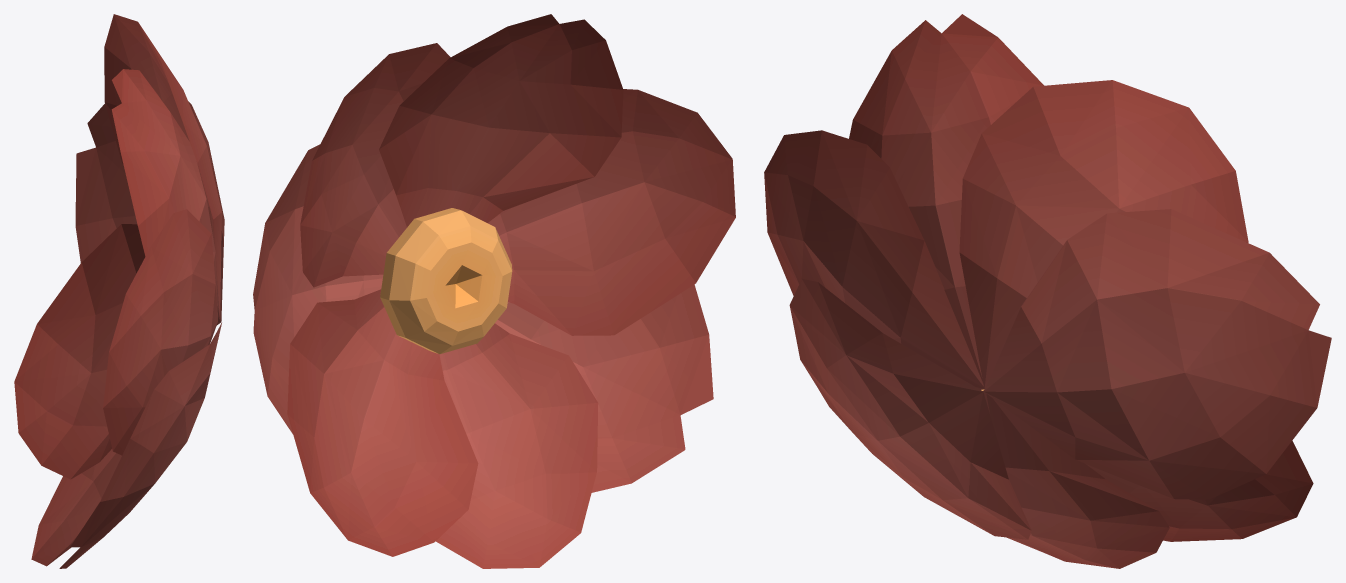
The model's file is CharSkyKid_Horn_FlowerPoppy_02.glb.
The picture shows the model from 3 angles, left to right: view 1: azimuth 30°, elevation 25°; view 2: azimuth 150°, elevation 25°; view 3: azimuth 270°, elevation 25°; orthographic projection. The views are drawn at different scales.
Parts seen in each view (by area): view 1: CharSkyKid_Horn_FlowerPoppy_02; view 2: CharSkyKid_Horn_FlowerPoppy_02; view 3: CharSkyKid_Horn_FlowerPoppy_02.
Part boxes in pixels (x1,y1,x2,y2): CharSkyKid_Horn_FlowerPoppy_02: [14, 14, 224, 568]; CharSkyKid_Horn_FlowerPoppy_02: [253, 14, 735, 568]; CharSkyKid_Horn_FlowerPoppy_02: [764, 14, 1331, 568].
Size of the model in its own units: 0.5936 by 1.09 by 0.9902.
1 material, 1 textured.
